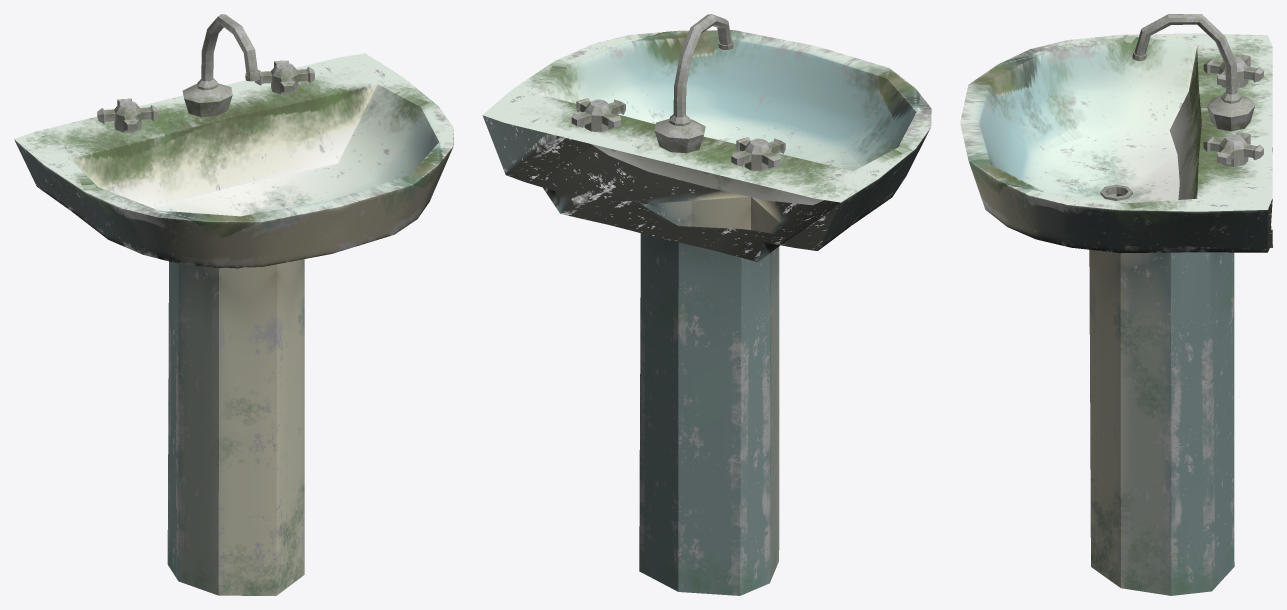
The model's file is basin_cpl.FBX.
3 renders of one model, left to right at view 1: azimuth 30°, elevation 25°; view 2: azimuth 150°, elevation 25°; view 3: azimuth 270°, elevation 25°, orthographic. The views are drawn at different scales.
Visible parts, largest first — view 1: 세면대; view 2: 세면대; view 3: 세면대.
Part boxes in pixels (bbox=[...]): 세면대: bbox=[14, 14, 453, 595]; 세면대: bbox=[482, 14, 931, 595]; 세면대: bbox=[960, 14, 1272, 595].
Size of the model in its own units: 108 by 156 by 80.07.
